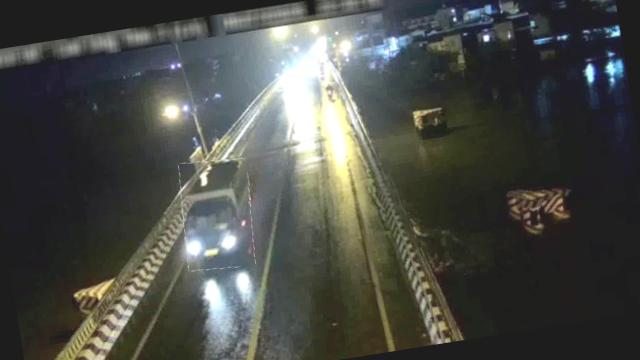Bike: (322, 81, 342, 101)
Truck: (174, 154, 260, 273)
